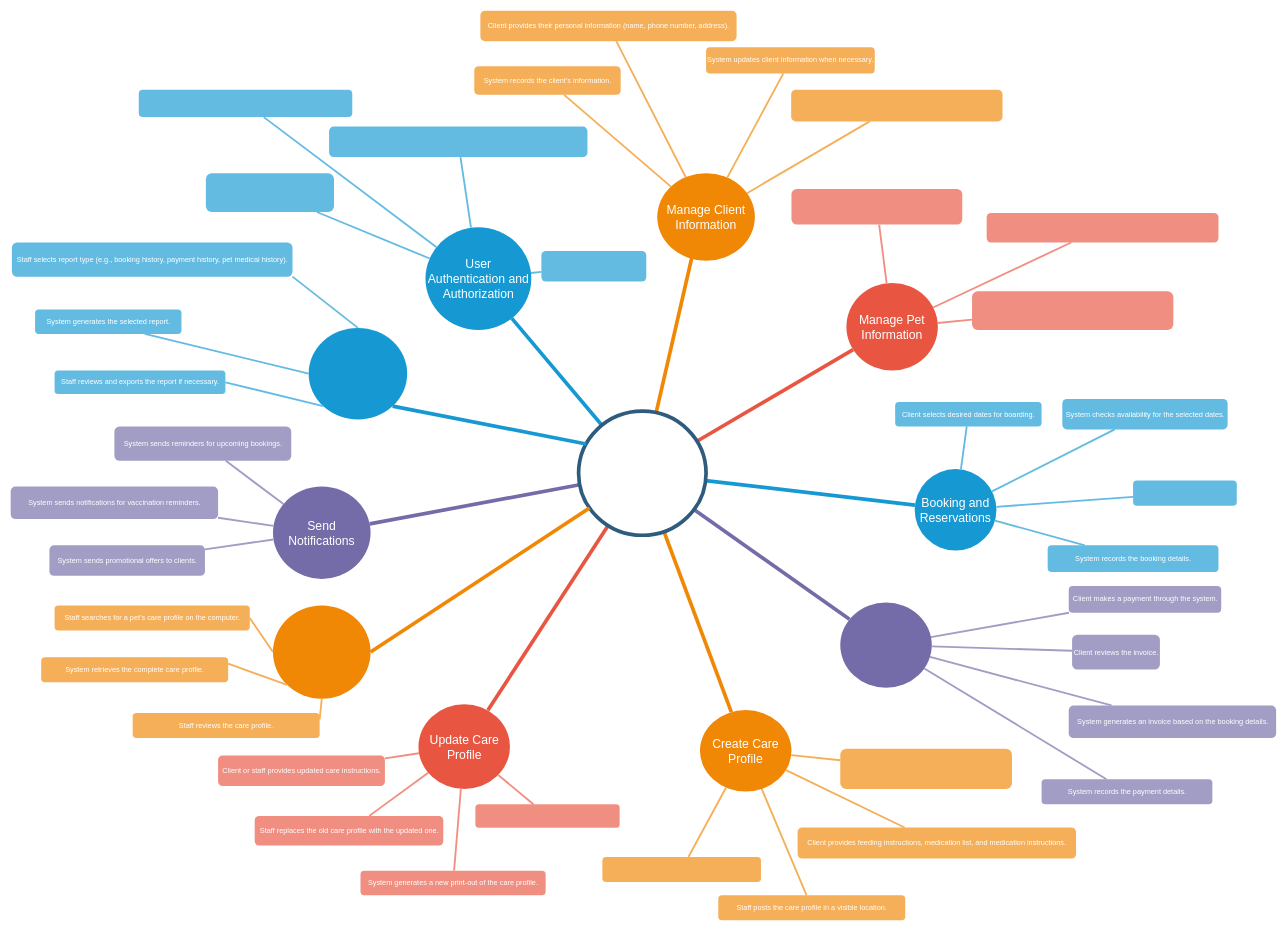
The diagram is 1286 pixels wide and 930 high, and some of its shapes have lost their labels. The shapes that lost their labels are listed below. From the top down, each one's centre as x and y in pixels, then its label:
At (245,103): "User accesses the application with appropriate permissions.".
At (896,105): "System retains client information even if their pet passes away.".
At (458,141): "System grants access based on user roles (e.g., admin, staff, client).".
At (270,192): "User provides login credentials.".
At (876,206): "System records the pet’s information.".
At (1102,227): "Client provides pet’s information (name, breed, age, medical history).".
At (593,266): "System verifies credentials.".
At (1072,310): "System updates pet information when necessary.".
At (357,373): "Generate Reports".
At (642,473): "YYC Pet Resort application".
At (1184,492): "Client confirms booking.".
At (321,651): "Retrieve Care Profile".
At (885,644): "Billing and Payments".
At (926,768): "System records the care profile for each pet.".
At (547,815): "System updates the care profile.".
At (681,869): "System generates a print-out of the care profile.".
